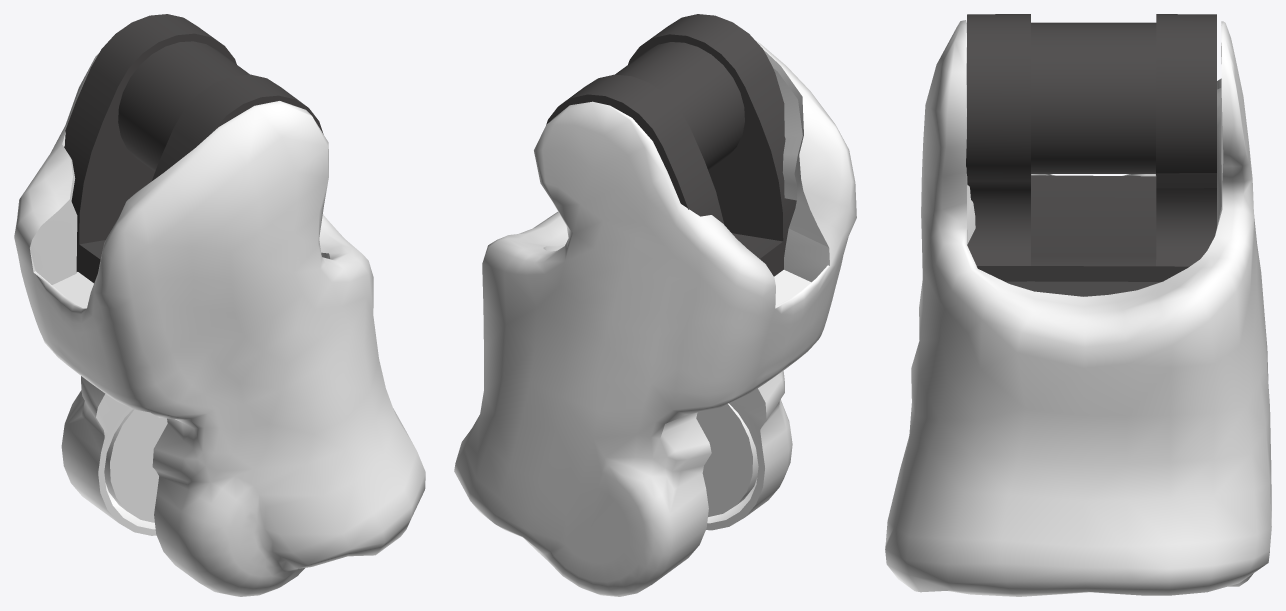
Rendered from RHipPitch.dae.
3 renders of one model, left to right at view 1: azimuth 30°, elevation 25°; view 2: azimuth 150°, elevation 25°; view 3: azimuth 270°, elevation 25°, orthographic. The views are drawn at different scales.
Visible parts, largest first — view 1: RHipPitch; view 2: RHipPitch; view 3: RHipPitch.
Part boxes in pixels (x1,y1,x2,y2): RHipPitch: (14, 14, 425, 596); RHipPitch: (454, 14, 856, 596); RHipPitch: (885, 14, 1271, 596).
Size of the model in its own units: 0.9585 by 0.8955 by 1.43.
1 material, 1 textured.
